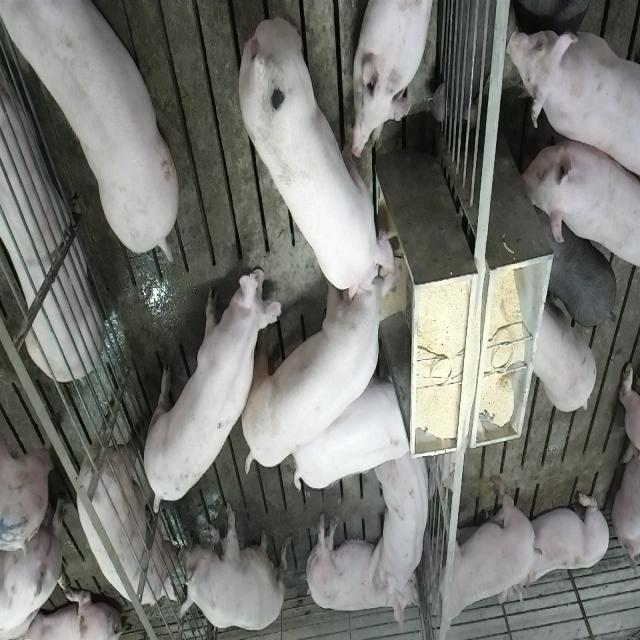Feeding: (236, 16, 400, 300), (234, 256, 398, 484)
Lateral_lying: (304, 510, 419, 630)
Sitting: (178, 502, 284, 632)
Standing: (0, 0, 176, 257), (142, 258, 281, 514), (504, 24, 638, 189), (78, 403, 180, 606), (430, 473, 540, 636), (288, 359, 414, 494), (521, 137, 637, 272), (0, 495, 61, 640), (542, 213, 617, 329), (530, 295, 598, 413), (510, 0, 604, 32)
Sternal_lying: (0, 34, 100, 380), (352, 0, 438, 158), (376, 448, 434, 624), (522, 488, 610, 598)
